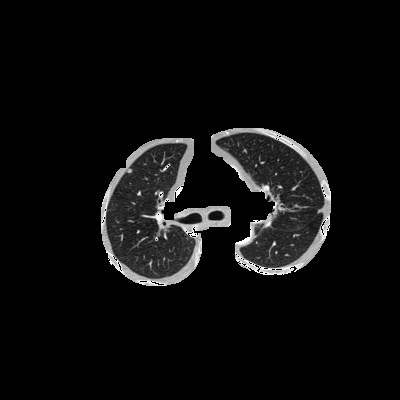PN: (127, 168, 131, 172)
